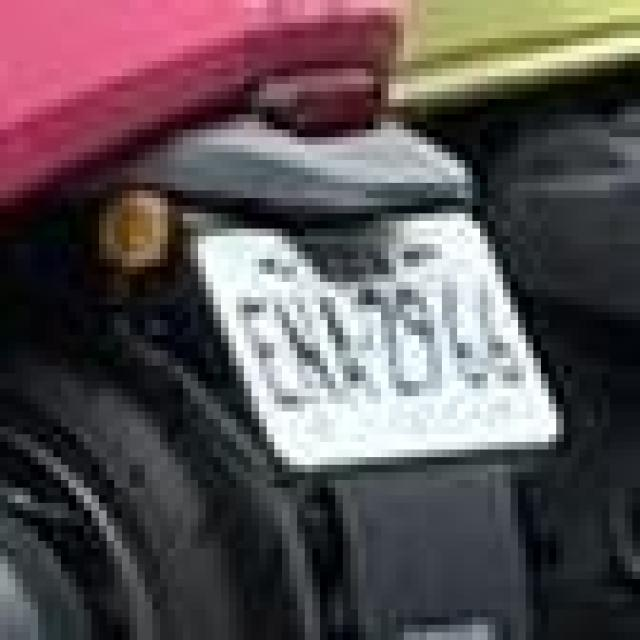W: (167, 175, 640, 495)
